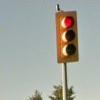traffic lights: (55, 8, 80, 64)
